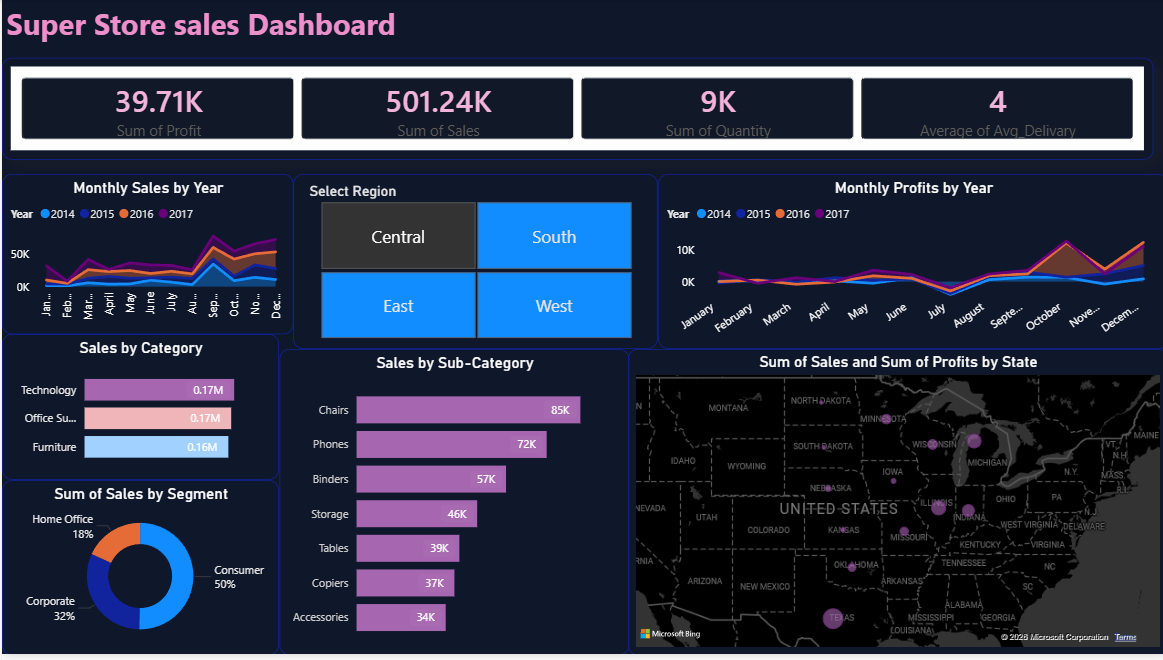

This screenshot's page, from the dashboard's own definition file:
{"tool":"powerbi","page":{"name":"Page 1","canvas":[1280,720],"ordinal":0},"visuals":[{"type":"barChart","title":"Sales by Category","fields":{"Category":["Orders.Category"],"Y":["Sum(Orders.Sales)"]},"box":[0,368,304,160],"z":0},{"type":"barChart","title":"Sales by Sub-Category","fields":{"Y":["Sum(Orders.Sales)"],"Category":["Orders.Sub-Category"]},"box":[304,384,384,336],"z":1000},{"type":"stackedAreaChart","title":" Monthly Sales by Year","fields":{"Y":["Sum(Orders.Sales)"],"Series":["Orders.Order Date.Variation.Date Hierarchy.Year"],"Category":["Orders.Order Date.Variation.Date Hierarchy.Month"]},"box":[0,192,320,176],"z":2000},{"type":"stackedAreaChart","title":"Monthly Profits by Year","fields":{"Series":["Orders.Order Date.Variation.Date Hierarchy.Year"],"Category":["Orders.Order Date.Variation.Date Hierarchy.Month"],"Y":["Sum(Orders.Profit)"]},"box":[720,192,560,192],"z":3000},{"type":"map","title":"Sum of Sales and Sum of Profits by State","fields":{"Category":["Orders.State"],"Size":["Sum(Orders.Sales)"]},"box":[688,384,592,336],"z":4000},{"type":"donutChart","fields":{"Category":["Orders.Segment"],"Y":["Sum(Orders.Sales)"]},"box":[0,528,304,192],"z":5000},{"type":"slicer","fields":{"Values":["Orders$FilterDatabase.Region"]},"box":[320,192,400,192],"z":6000},{"type":"textbox","box":[0,0,537.9,76.8],"z":7000},{"type":"cardVisual","fields":{"Data":["Sum(Orders.Profit)","Sum(Orders.Sales)","Sum(Orders.Quantity)","Avg(Orders.Avg_Delivary)"]},"box":[0,64,1264,112],"z":9000}]}

Visuals, with their boxes in screenshot pixels (x1, y1, x2, y2), scaled from the page's 1280x720 canvas onto the 1163x660 screenshot:
"Sales by Category" barChart: 0:337:276:484
"Sales by Sub-Category" barChart: 276:352:625:659
" Monthly Sales by Year" stackedAreaChart: 0:176:291:337
"Monthly Profits by Year" stackedAreaChart: 654:176:1162:352
"Sum of Sales and Sum of Profits by State" map: 625:352:1162:659
donutChart - Orders.Segment x Sum(Orders.Sales): 0:484:276:659
slicer - Orders$FilterDatabase.Region: 291:176:654:352
textbox: 0:0:489:70
cardVisual - Sum(Orders.Profit) x Sum(Orders.Sales): 0:59:1148:161
